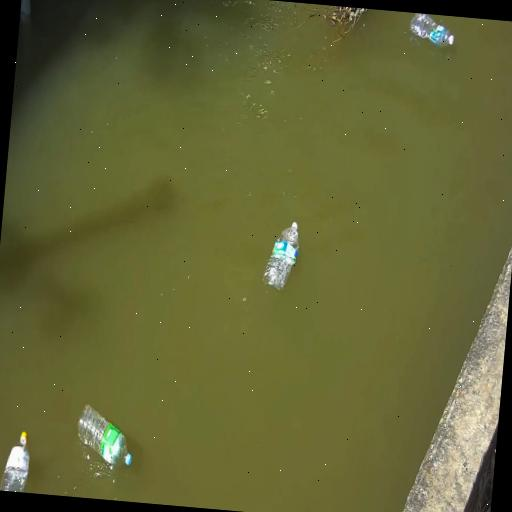plastic: (78, 405, 131, 467), (263, 222, 299, 291), (1, 432, 29, 492), (410, 13, 454, 47)
twig: (294, 2, 370, 48)
